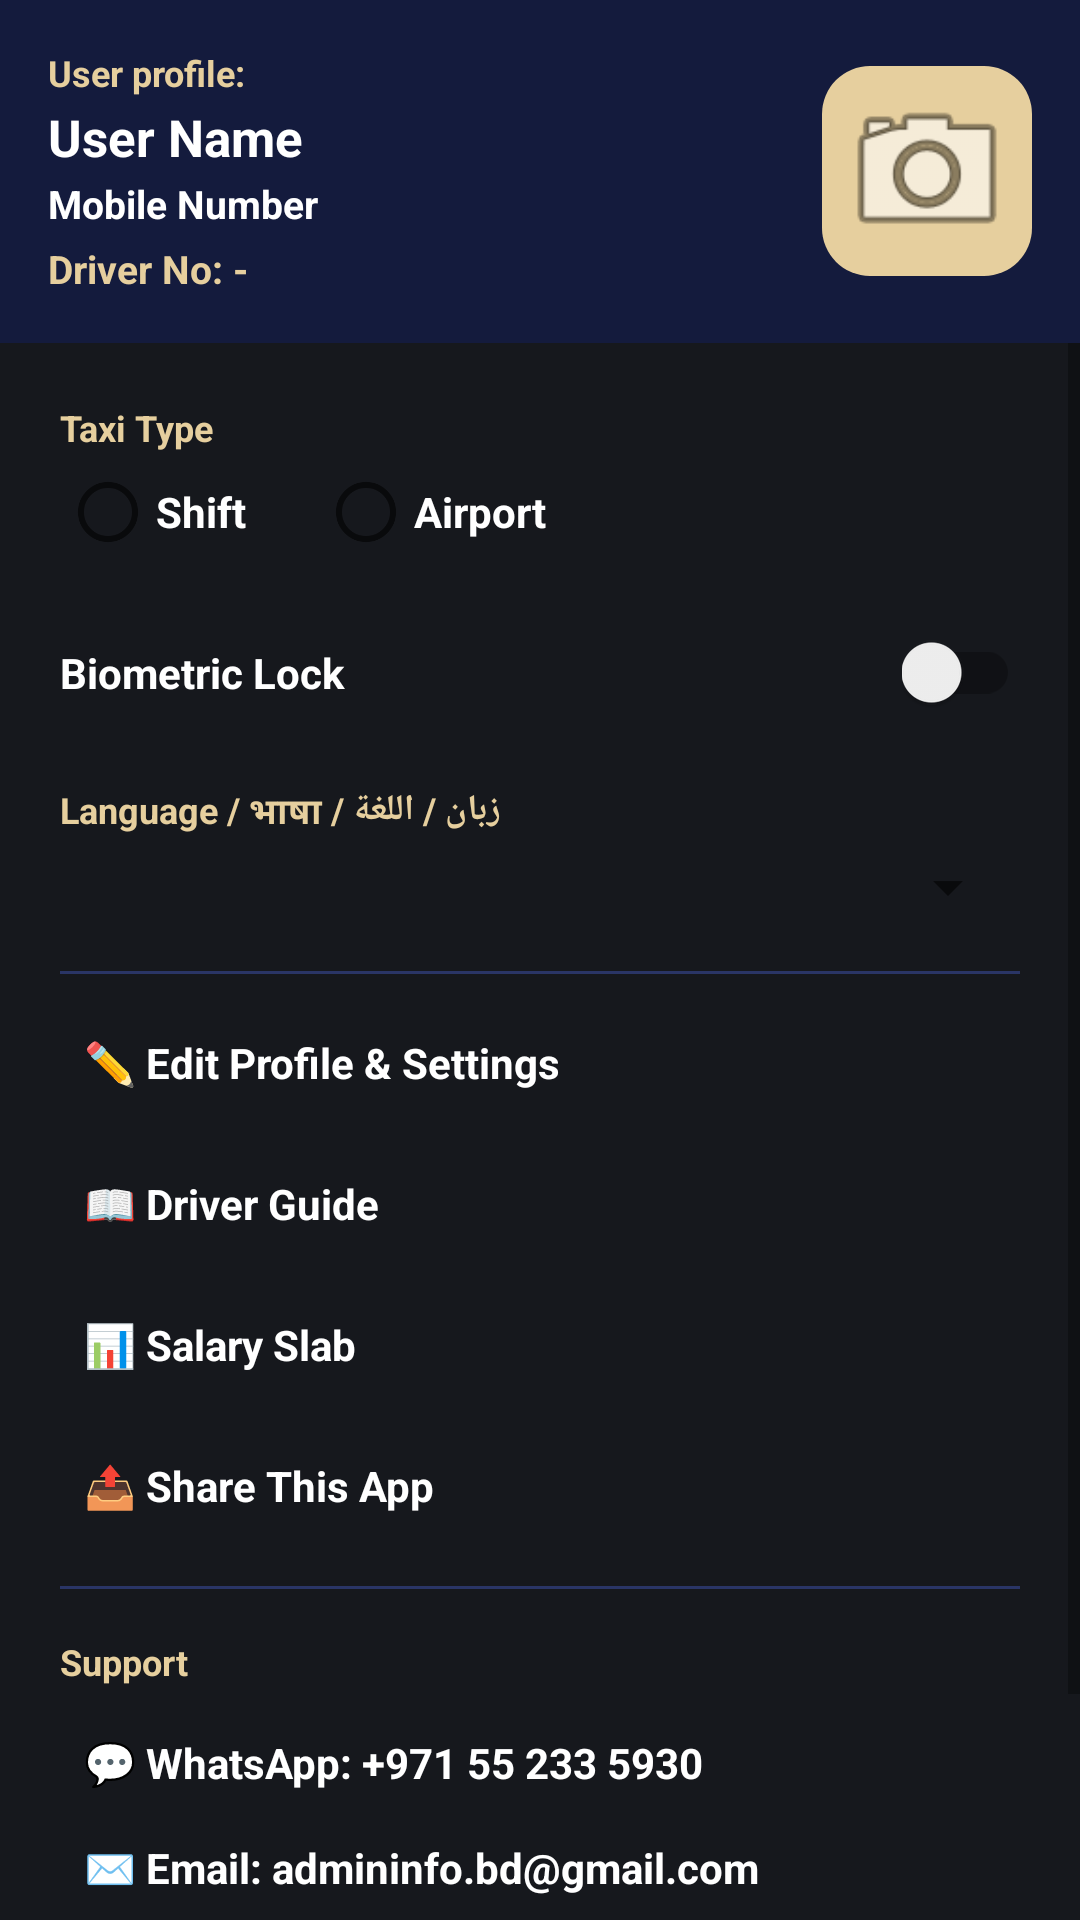

Icons on this 1080 × 1920 Android screen, each with the point to tap as (x,y):
Profile picture: (927,168)
